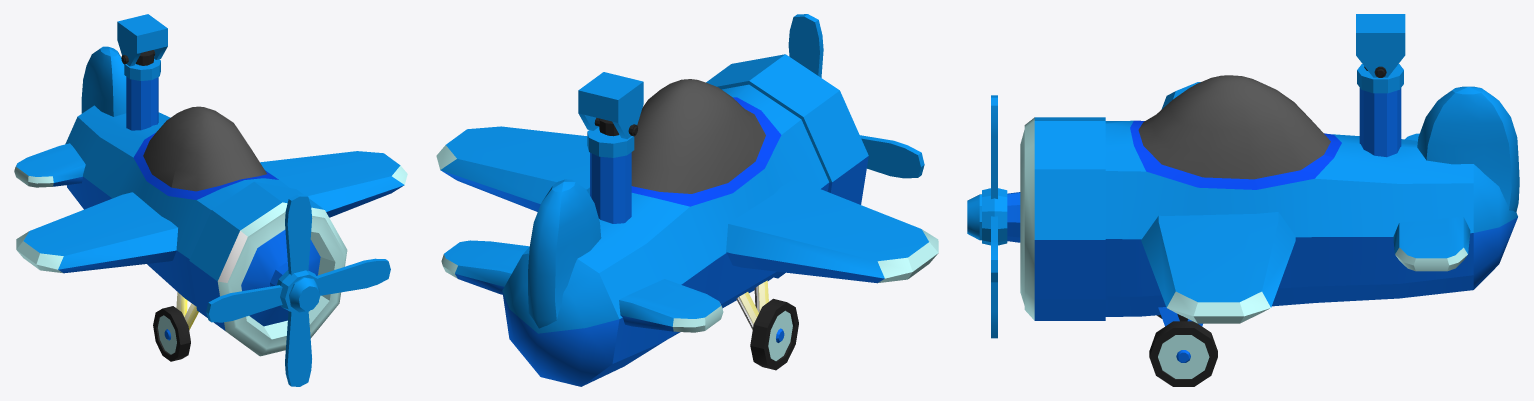
The model's file is skin1.fbx.
The picture shows the model from 3 angles, left to right: view 1: azimuth 30°, elevation 25°; view 2: azimuth 150°, elevation 25°; view 3: azimuth 270°, elevation 25°; orthographic projection. The views are drawn at different scales.
Parts seen in each view (by area): view 1: Cylinder, Torus.001, Cylinder.001, Cube, Cylinder.002; view 2: Cylinder, Cylinder.001, Torus.001, Cube, Cylinder.002; view 3: Cylinder, Cube, Cylinder.001, Torus.001, Cylinder.002.
Part boxes in pixels (box(x1,y1,x2,y2)): Cylinder: box(14, 46, 407, 356); Torus.001: box(206, 194, 390, 386); Cylinder.001: box(124, 59, 160, 130); Cube: box(153, 292, 198, 361); Cylinder.002: box(117, 14, 167, 66); Cylinder: box(436, 54, 938, 386); Cylinder.001: box(587, 127, 634, 223); Torus.001: box(788, 14, 924, 178); Cube: box(736, 280, 798, 370); Cylinder.002: box(578, 72, 643, 139); Cylinder: box(967, 75, 1519, 323); Cube: box(1149, 307, 1217, 386); Cylinder.001: box(1357, 64, 1403, 157); Torus.001: box(982, 95, 1007, 338); Cylinder.002: box(1356, 14, 1405, 77).
Bounding box in the file's own units: 497 × 336 × 511.
